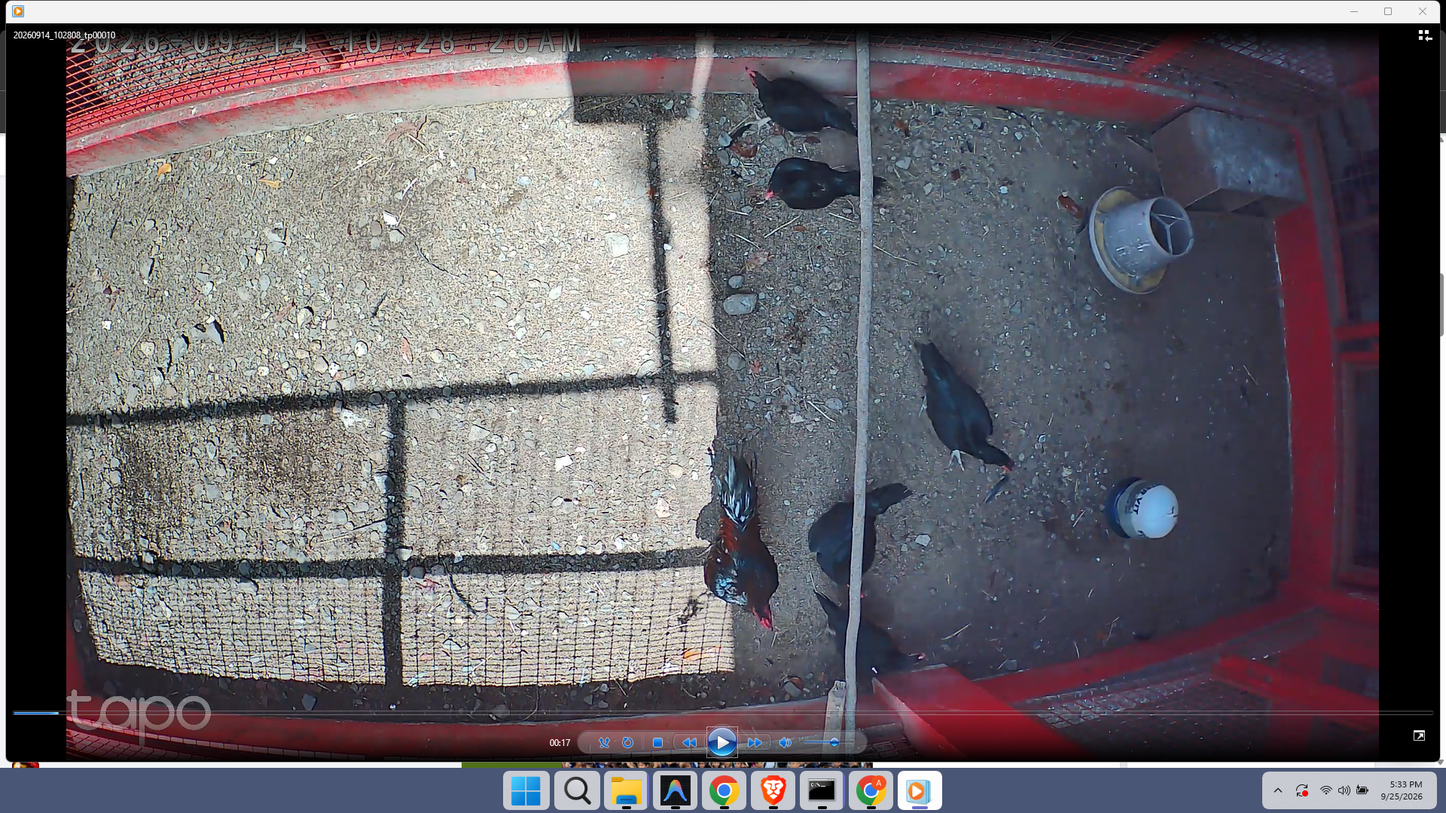Chicken: (909, 341, 1021, 490), (810, 476, 914, 602), (811, 590, 931, 682), (738, 63, 858, 142), (763, 153, 891, 212)
Drinker: (1104, 472, 1181, 540)
Feeder: (1085, 184, 1194, 295)
Rooster: (698, 444, 790, 636)
